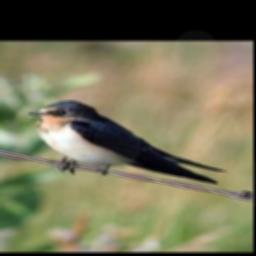Swallow: (25, 97, 226, 187)
